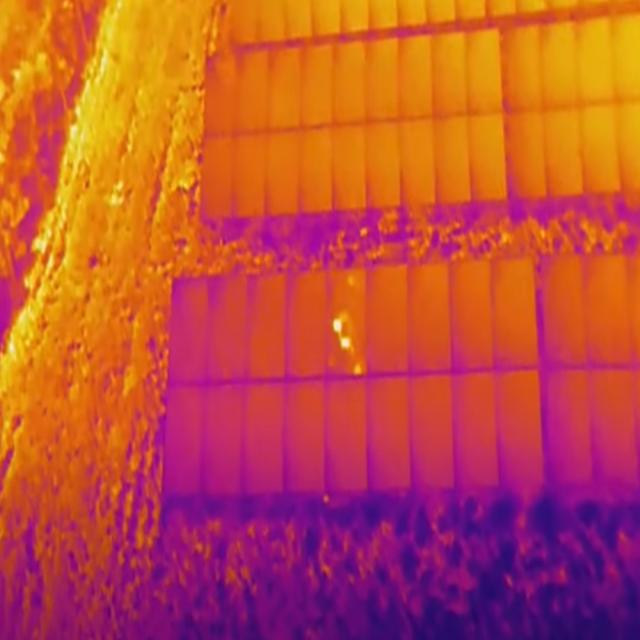hotspot group: (331, 311, 366, 374)
panel with hotspots: (327, 265, 368, 377)
